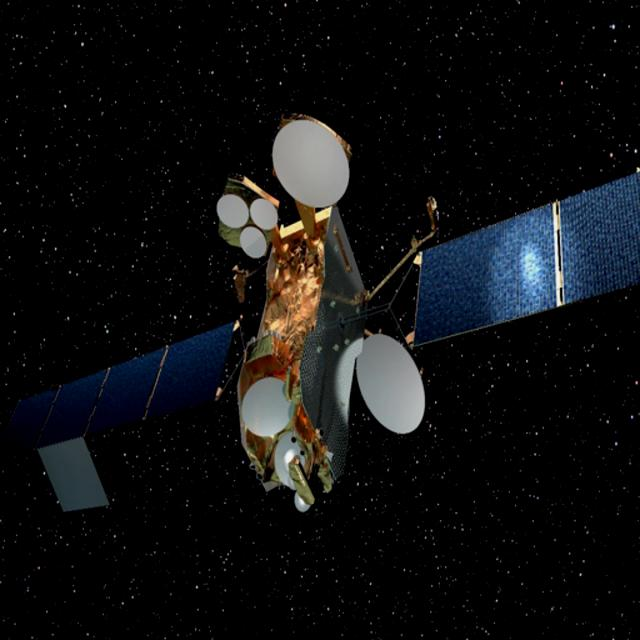medium_debris: (22, 106, 640, 546)
